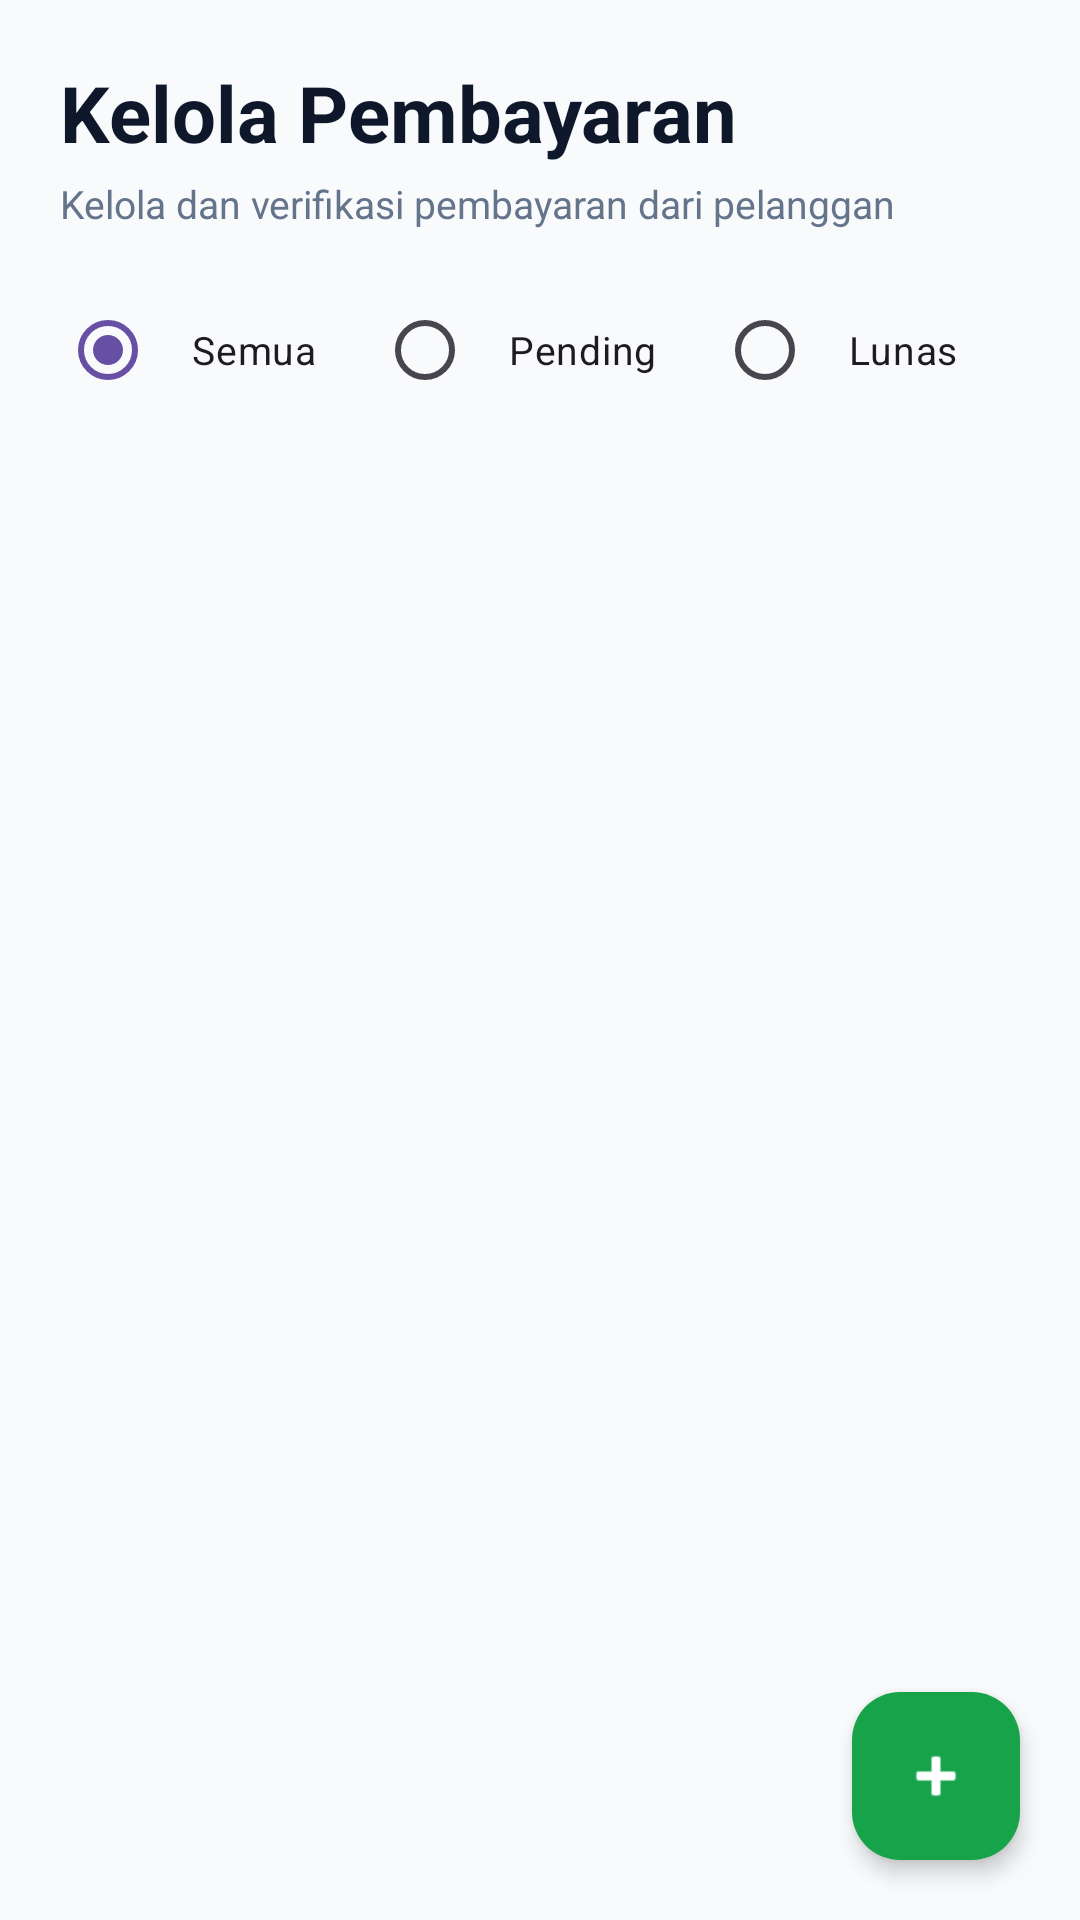

Screen size 1080 x 1920. Icon name, then its box in pixels as (x1, y1, x2, y2):
Catat Tunai: (852, 1692, 1020, 1860)
